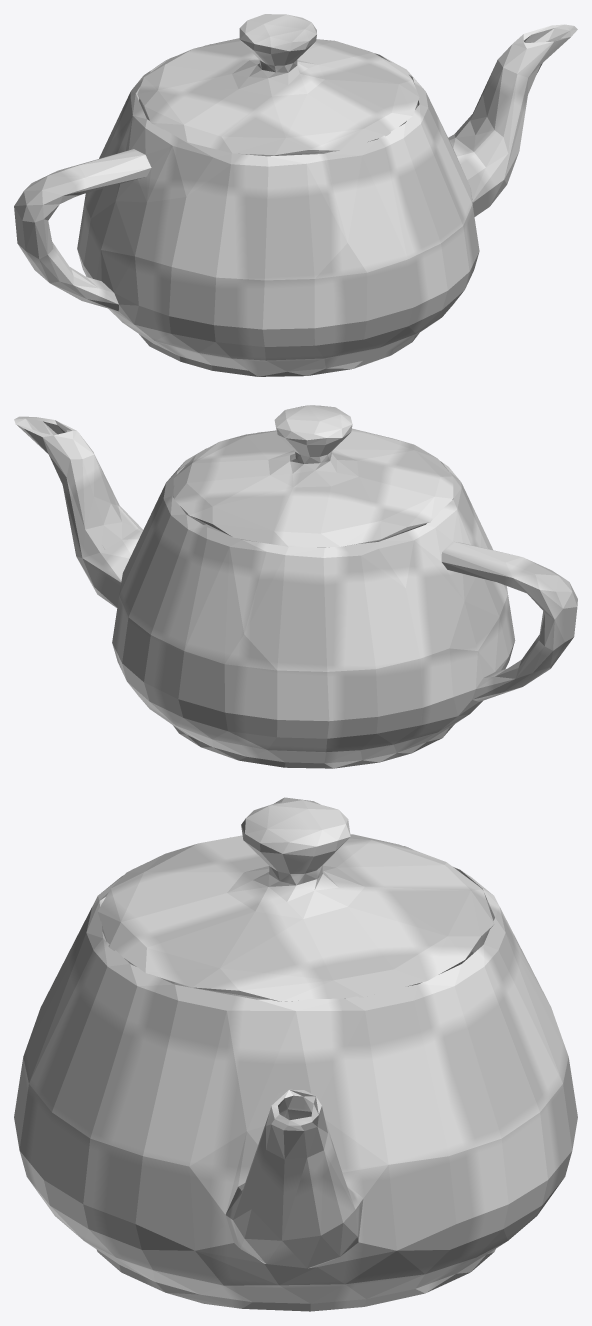
File: decimatedTeapot.glb
The picture shows the model from 3 angles, top to bottom: view 1: azimuth 30°, elevation 25°; view 2: azimuth 150°, elevation 25°; view 3: azimuth 270°, elevation 25°; orthographic projection. The views are drawn at different scales.
Visible parts, largest first — view 1: teapot; view 2: teapot; view 3: teapot.
Part boxes in pixels (x1=…): teapot: x1=14, y1=14, x2=577, y2=376; teapot: x1=14, y1=405, x2=577, y2=768; teapot: x1=14, y1=797, x2=577, y2=1311.
Size of the model in its own units: 6.89 by 3.54 by 4.3.
1 material, 1 textured.
